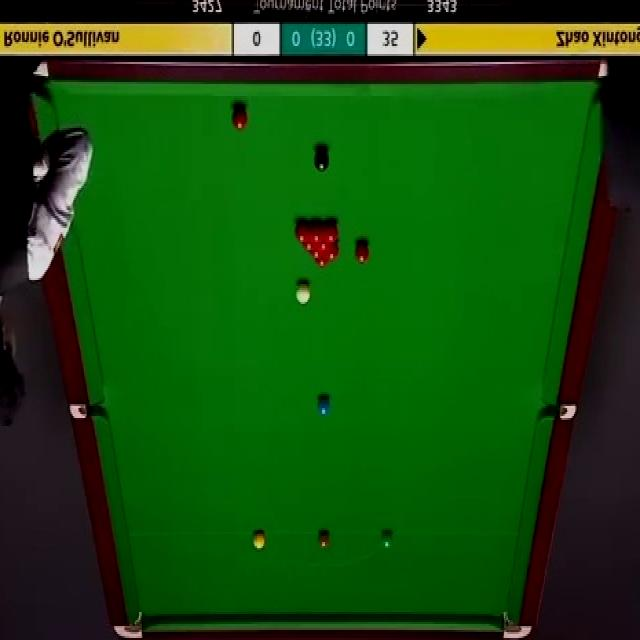black-ball: (313, 148, 330, 175)
blue-ball: (315, 394, 332, 416)
brown-ball: (317, 531, 330, 550)
green-ball: (381, 531, 394, 550)
red-ball: (231, 106, 248, 132), (354, 239, 371, 263), (294, 223, 311, 242), (322, 244, 339, 261), (324, 222, 338, 242), (311, 219, 323, 242), (301, 241, 317, 254), (315, 256, 330, 269), (317, 240, 331, 253), (309, 249, 325, 260)
white-ball: (294, 281, 312, 306)
yellow-ball: (252, 531, 265, 550)
